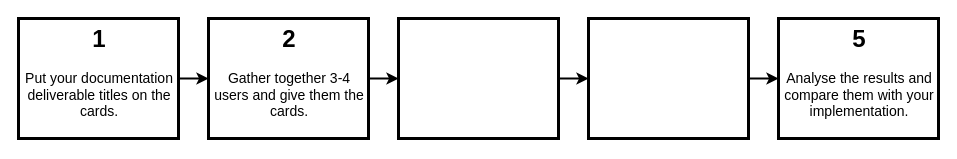
This 957x159 diagram has some shape labels left out. Each missing label, with the box of its shape:
3 Ask them to group the content in the way that makes sense to them.: (396, 16, 560, 140)
4 Once ready, ask them to label these groups.: (586, 16, 750, 140)
